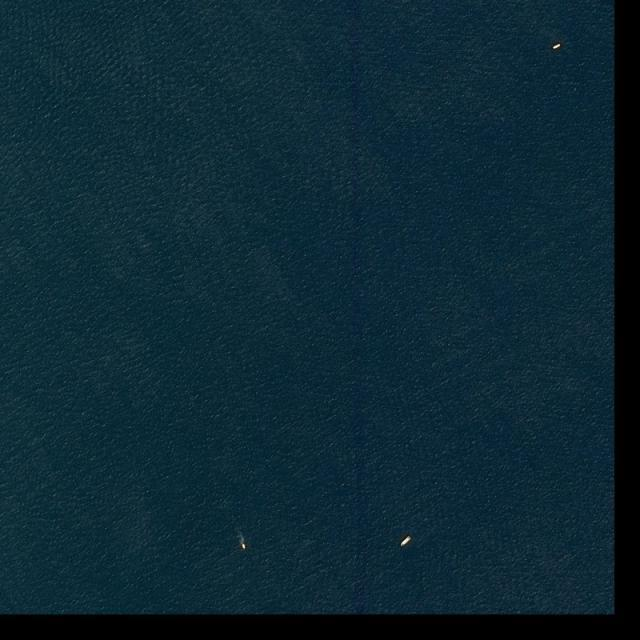ship: (399, 535, 413, 549), (551, 42, 562, 50), (242, 544, 247, 550)
